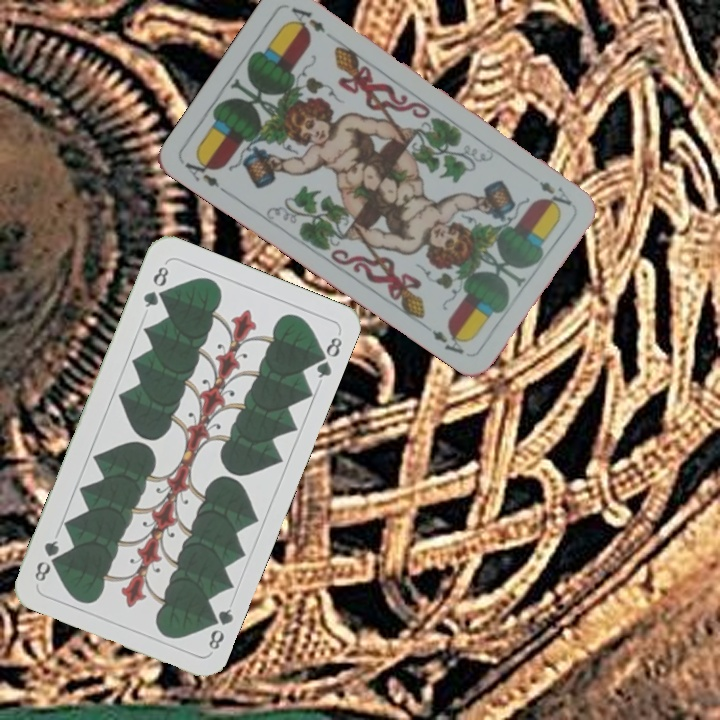EA: (180, 152, 231, 197), (534, 176, 575, 208)
G8: (139, 260, 172, 310), (203, 604, 236, 652)
